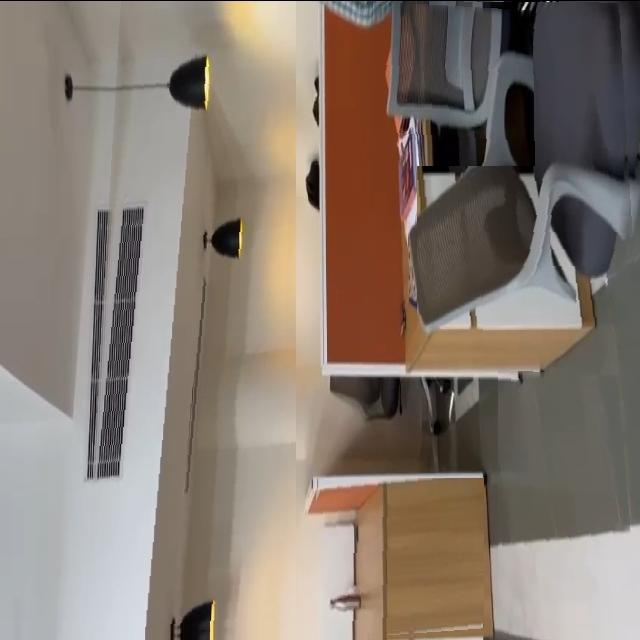floor: (498, 368, 640, 640)
furniture: (417, 0, 640, 357), (312, 477, 484, 640), (373, 0, 535, 165)
wall: (83, 0, 296, 640)
